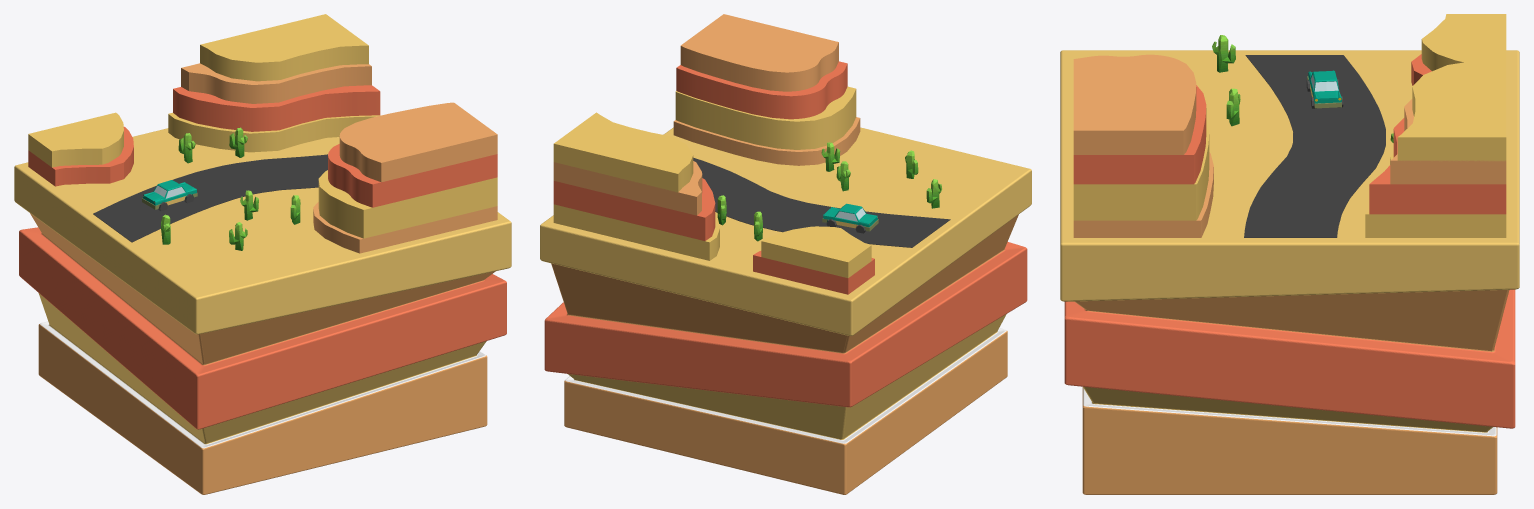
File: low poly scene for sketchfab.fbx
The picture shows the model from 3 angles, left to right: view 1: azimuth 30°, elevation 25°; view 2: azimuth 150°, elevation 25°; view 3: azimuth 270°, elevation 25°; orthographic projection. The views are drawn at different scales.
Parts seen in each view (by area): view 1: Cube, Cylinder.018, Cylinder.021, Cube.009, Cylinder.019, Cylinder.016, Cylinder.017, Cylinder.020, Cylinder.013, Cylinder, Cylinder.015, Cylinder.012 (+2 smaller); view 2: Cube, Cylinder.018, Cylinder.021, Cube.009, Cylinder.016, Cylinder.017, Cylinder.019, Cylinder.013, Cylinder, Cylinder.020, Cylinder.015, Cylinder.012 (+1 smaller); view 3: Cube, Cube.009, Cylinder.018, Cylinder.021, Cylinder.016, Cylinder.019, Cylinder.017, Cylinder.013, Cylinder, Cylinder.020, Cylinder.015, Cube.012 (+1 smaller).
Boxes of the visible parts, x1,y1,x2,y2 form: Cube: (14, 128, 511, 494); Cylinder.018: (339, 102, 497, 182); Cylinder.021: (200, 14, 368, 81); Cube.009: (93, 154, 327, 242); Cylinder.019: (173, 85, 380, 131); Cylinder.016: (318, 170, 497, 238); Cylinder.017: (328, 144, 497, 207); Cylinder.020: (181, 63, 371, 103); Cylinder.013: (28, 112, 123, 167); Cylinder: (168, 112, 380, 152); Cylinder.015: (313, 202, 497, 253); Cylinder.012: (28, 126, 133, 186); Cube: (540, 127, 1031, 494); Cylinder.018: (680, 14, 838, 91); Cylinder.021: (553, 112, 693, 192); Cube.009: (693, 157, 950, 247); Cylinder.016: (675, 86, 856, 149); Cylinder.017: (676, 61, 847, 119); Cylinder.019: (553, 178, 715, 240); Cylinder.013: (761, 226, 871, 277); Cylinder: (553, 204, 719, 260); Cylinder.020: (553, 161, 702, 215); Cylinder.015: (673, 117, 860, 165); Cylinder.012: (753, 251, 874, 294); Cube: (1060, 50, 1519, 494); Cube.009: (1244, 55, 1385, 237); Cylinder.018: (1073, 54, 1196, 154); Cylinder.021: (1397, 60, 1506, 161); Cylinder.016: (1073, 120, 1209, 220); Cylinder.019: (1369, 118, 1506, 214); Cylinder.017: (1073, 85, 1206, 184); Cylinder.013: (1421, 14, 1506, 71); Cylinder: (1365, 153, 1506, 237); Cylinder.020: (1390, 99, 1506, 184); Cylinder.015: (1073, 152, 1213, 237); Cube.012: (1307, 70, 1341, 108).
Bounding box in the file's own units: 200 × 177 × 200.
